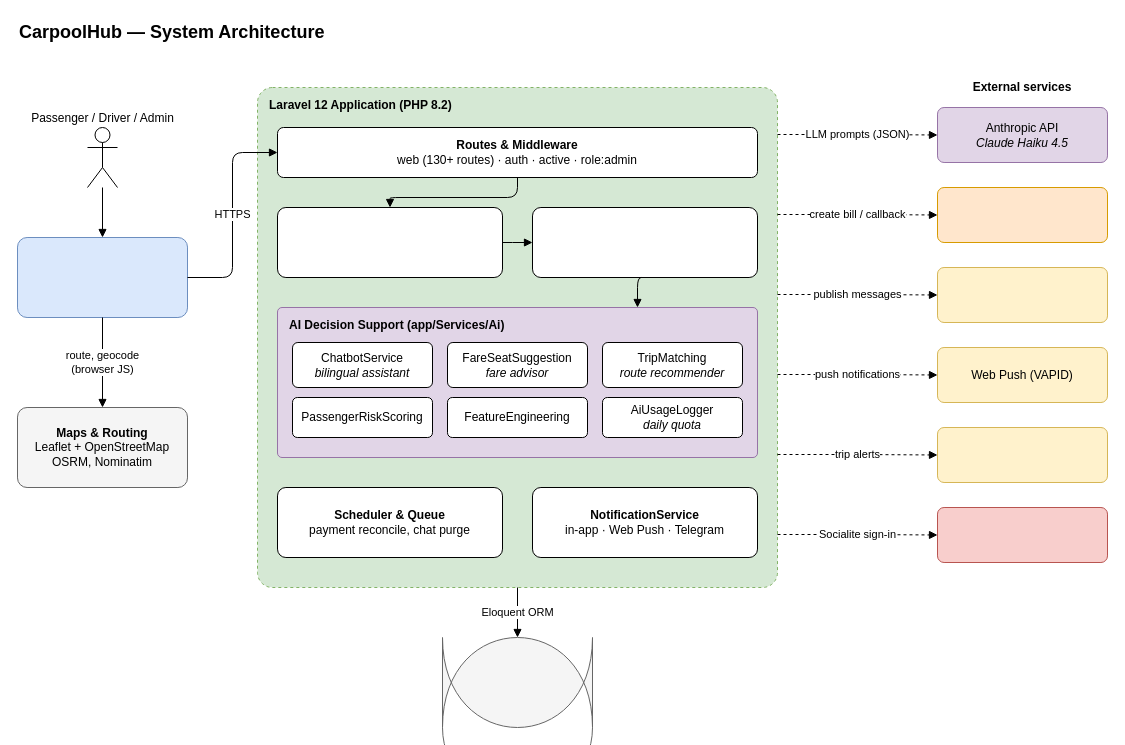
This 1125x745 diagram has some shape labels left out. Each missing label, with the centre of its shape:
Ably real-time chat channels: (x=1022, y=294)
Controllers Trip, Explore, Payment, Wallet, Chat, AiChat, Admin…: (x=389, y=242)
Google OAuth 2.0: (x=1022, y=534)
MySQL 66 migrations: (x=517, y=682)
Progressive Web App Laravel Blade + JS Service Worker, installable: (x=102, y=277)
Service Layer TripService, PaymentService, WalletService, ChatService…: (x=645, y=242)
Telegram Bot API: (x=1022, y=454)
ToyyibPay FPX online banking: (x=1022, y=214)
